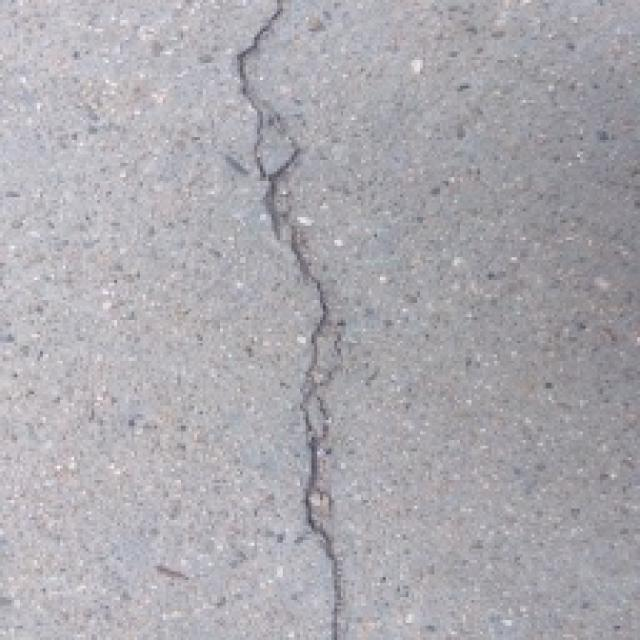crack: (204, 0, 374, 640)
